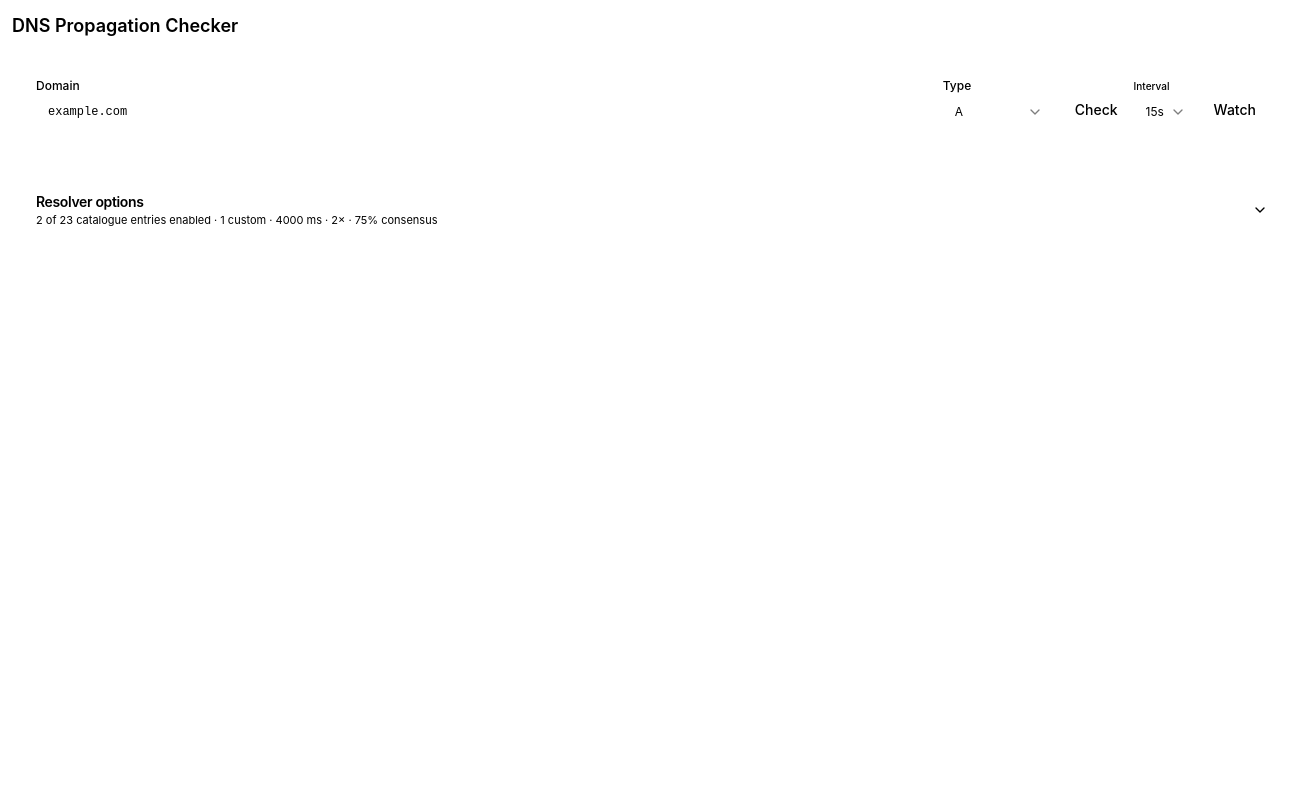
Test: passes the persisted resolver selection, custom resolvers and options to the check
This screenshot has width=1292, height=812.
What coordinates should you click on to do the following:
click the button "Check"
I would click on:
 (1096, 110)
Its box is 1063,92 -> 1130,128.
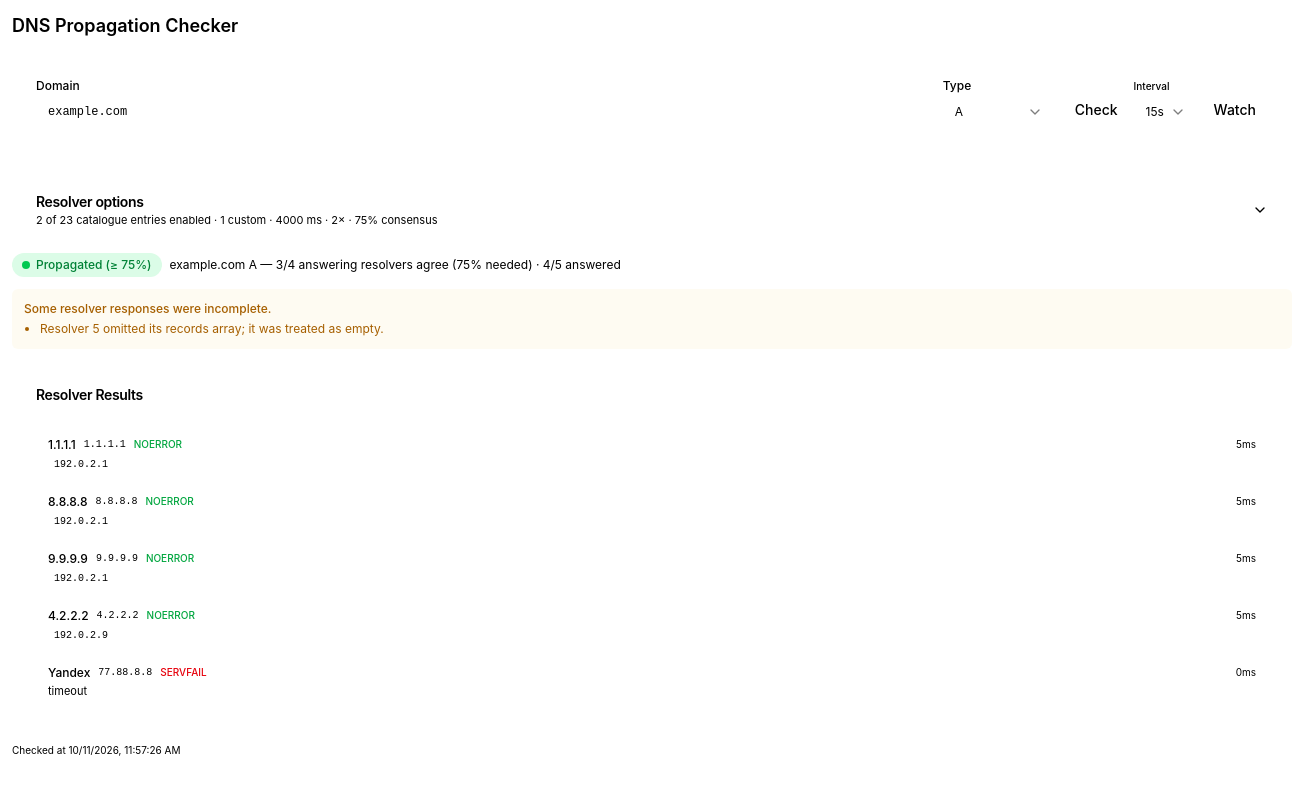
expect the text "Propagated (≥ 75%)" is shown: met, box 12,252 -> 162,276
expect the text with test id "propagation-summary" shows "3/4 answering resolvers agree (75% needed) · 4/5 answered": met, box 170,256 -> 621,272
